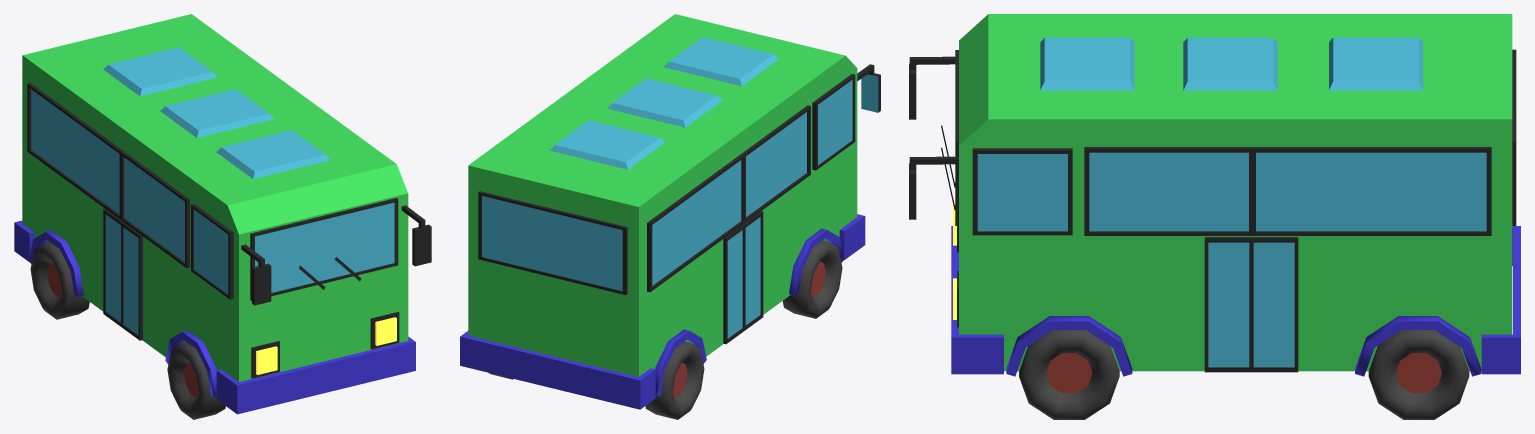
File: Bus.fbx
3 views of the same model, side by side, from view 1: azimuth 30°, elevation 25°; view 2: azimuth 150°, elevation 25°; view 3: azimuth 270°, elevation 25° (orthographic). The views are drawn at different scales.
Visible parts, largest first — view 1: Bus, wheels_9, wheels_8; view 2: Bus, wheels_8, wheels_9; view 3: Bus, wheels_9, wheels_8.
Boxes of the visible parts, x1,y1,x2,y2 form: Bus: (14, 14, 431, 414); wheels_9: (30, 241, 89, 319); wheels_8: (167, 342, 225, 419); Bus: (460, 14, 880, 409); wheels_8: (782, 240, 842, 318); wheels_9: (488, 341, 704, 419); Bus: (909, 14, 1520, 376); wheels_9: (1368, 330, 1469, 419); wheels_8: (1019, 330, 1119, 419).
Size of the model in its own units: 53.63 by 63.36 by 116.
